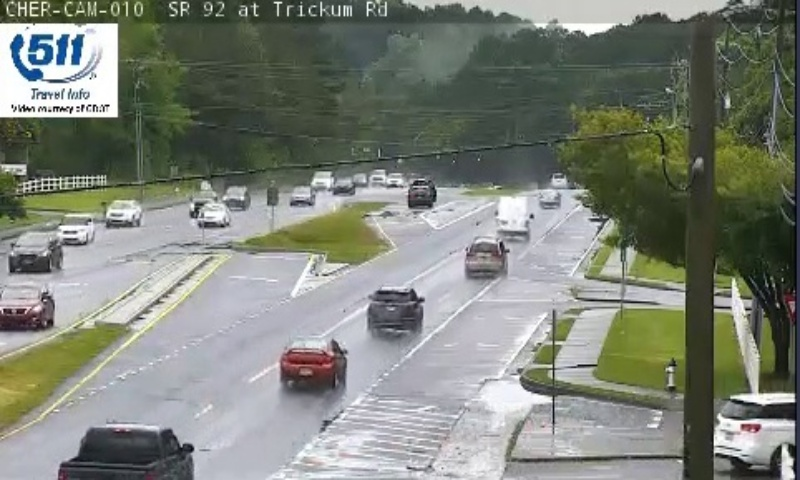car: (59, 425, 194, 480), (280, 337, 345, 382), (367, 286, 423, 332), (464, 238, 507, 279), (537, 187, 562, 209)
van: (497, 196, 528, 238)
